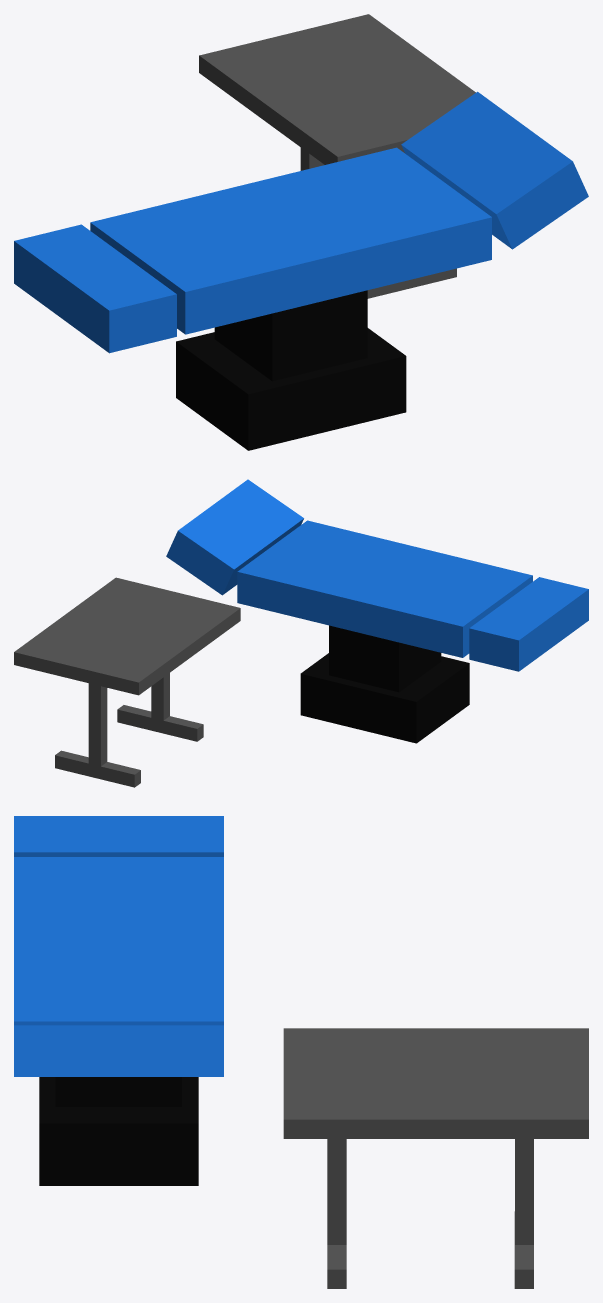
The model's file is Surgery_table.fbx.
3 renders of one model, top to bottom at view 1: azimuth 30°, elevation 25°; view 2: azimuth 150°, elevation 25°; view 3: azimuth 270°, elevation 25°, orthographic. The views are drawn at different scales.
Parts seen in each view (by area): view 1: Cube.002, Cube.009, Cube.001, Cube.003, Cube.004, Cube, Cube.006; view 2: Cube.002, Cube.009, Cube.001, Cube.003, Cube.004, Cube, Cube.008, Cube.006, Cube.010, Cube.007; view 3: Cube.002, Cube.009, Cube.001, Cube.003, Cube.004, Cube, Cube.007, Cube.008, Cube.010, Cube.006.
Boxes of the visible parts, x1,y1,x2,y2 form: Cube.002: (90, 147, 491, 334); Cube.009: (199, 14, 475, 164); Cube.001: (176, 328, 406, 450); Cube.003: (401, 91, 588, 249); Cube.004: (14, 224, 176, 353); Cube: (214, 290, 367, 381); Cube.006: (367, 268, 456, 298); Cube.002: (237, 520, 532, 657); Cube.009: (14, 577, 240, 695); Cube.001: (300, 653, 469, 743); Cube.003: (166, 479, 303, 595); Cube.004: (469, 577, 588, 671); Cube: (329, 625, 441, 692); Cube.008: (88, 683, 107, 766); Cube.006: (117, 705, 203, 741); Cube.010: (55, 750, 140, 787); Cube.007: (151, 673, 169, 720); Cube.002: (14, 857, 223, 1021); Cube.009: (283, 1028, 588, 1138); Cube.001: (39, 1077, 198, 1185); Cube.003: (14, 1022, 223, 1076); Cube.004: (14, 816, 223, 856); Cube: (55, 1077, 181, 1106); Cube.007: (327, 1139, 346, 1244); Cube.008: (515, 1139, 533, 1244); Cube.010: (514, 1211, 533, 1288); Cube.006: (327, 1245, 346, 1288).
Size of the model in its own units: 507 by 211 by 441.
